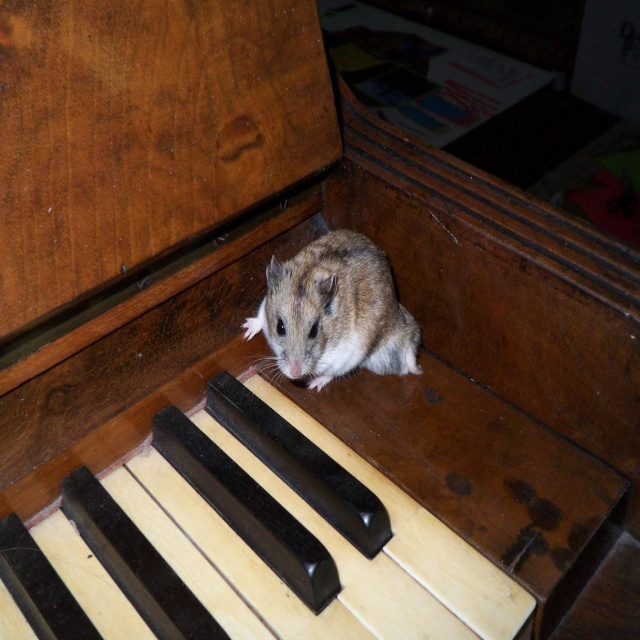Mouse: (244, 229, 429, 392)
